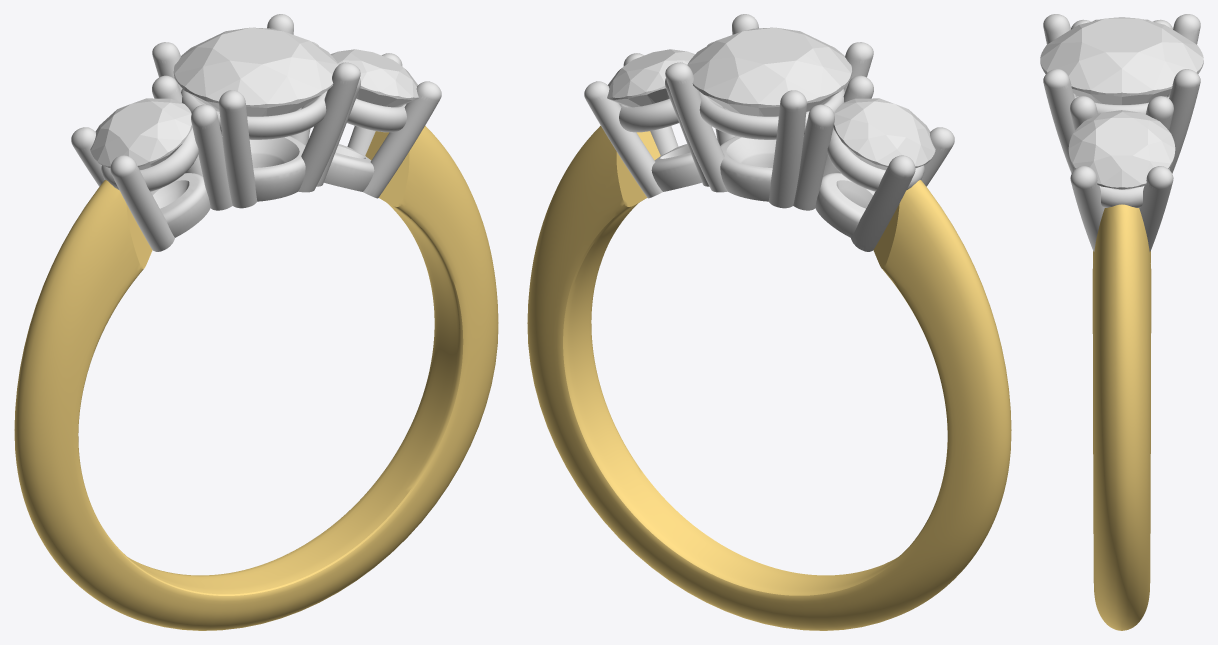
File: Josh_3_stone_blender.glb
3 views of the same model, side by side, from view 1: azimuth 30°, elevation 25°; view 2: azimuth 150°, elevation 25°; view 3: azimuth 270°, elevation 25° (orthographic).
Parts seen in each view (by area): view 1: Josh YG for 3d model, Josh PT for 3d model, Josh dia for 3d model.002, Josh dia for 3d model.001, Josh dia for 3d model; view 2: Josh YG for 3d model, Josh PT for 3d model, Josh dia for 3d model.002, Josh dia for 3d model.001, Josh dia for 3d model; view 3: Josh YG for 3d model, Josh PT for 3d model, Josh dia for 3d model.002, Josh dia for 3d model.
Part boxes in pixels (x1,y1,x2,y2): Josh YG for 3d model: [14, 125, 498, 630]; Josh PT for 3d model: [71, 14, 441, 251]; Josh dia for 3d model.002: [173, 27, 338, 116]; Josh dia for 3d model.001: [90, 98, 192, 170]; Josh dia for 3d model: [330, 49, 418, 107]; Josh YG for 3d model: [527, 125, 1011, 630]; Josh PT for 3d model: [584, 14, 954, 251]; Josh dia for 3d model.002: [687, 27, 852, 116]; Josh dia for 3d model.001: [833, 98, 935, 170]; Josh dia for 3d model: [607, 49, 695, 107]; Josh YG for 3d model: [1092, 204, 1151, 630]; Josh PT for 3d model: [1043, 14, 1200, 251]; Josh dia for 3d model.002: [1040, 17, 1203, 104]; Josh dia for 3d model: [1068, 110, 1175, 189].
Bounding box in the file's own units: 20.5 × 23.58 × 6.13.
